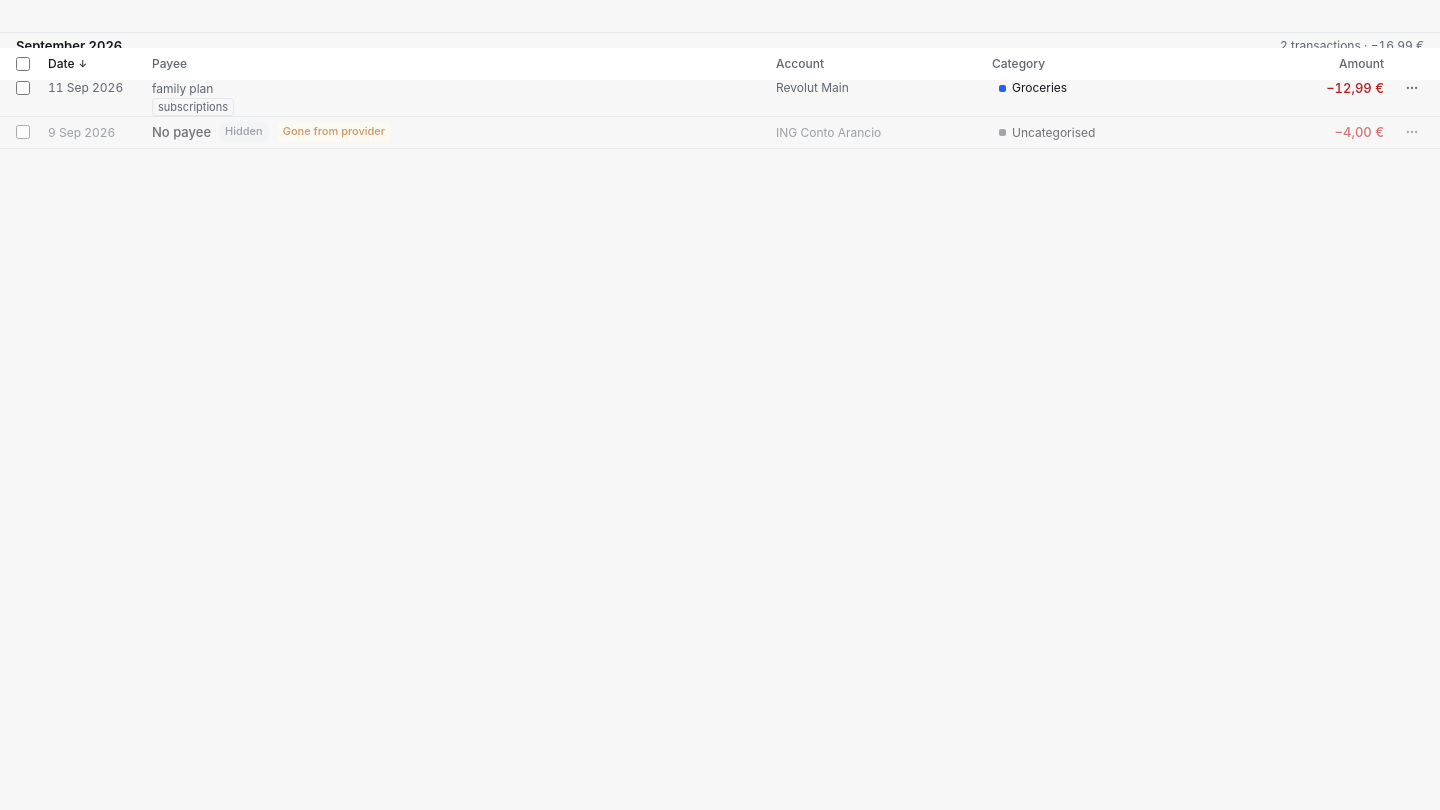
it: TransactionsTable › opens the details panel from the row menu, with the provider's fields as context
The image size is (1440, 810).
Click the button named "Row actions" in the row of "11 Sep 2026": point(1412, 88) [1400,76,1424,100]
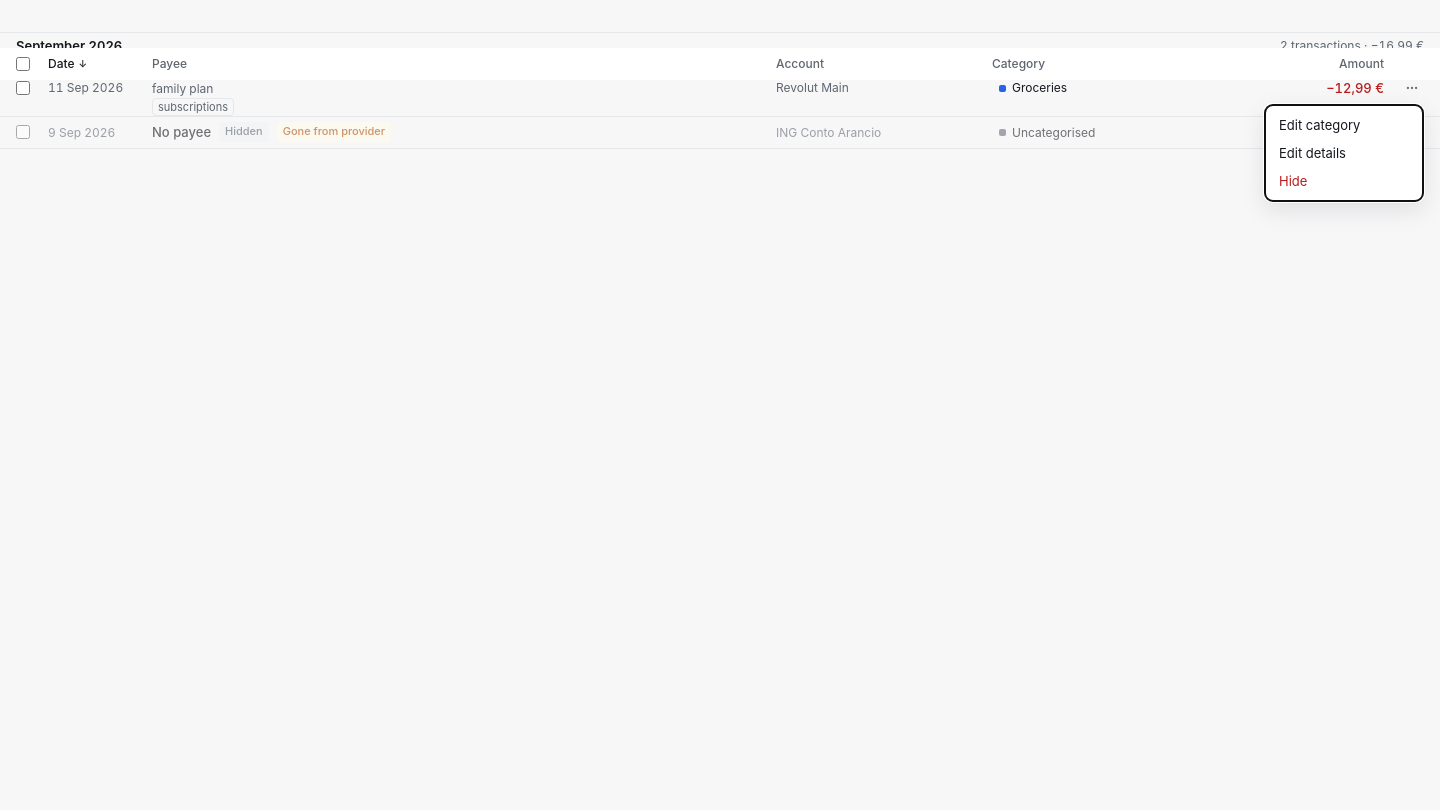
Click the menu item "Edit details": point(1312, 153) [1279,145,1346,161]
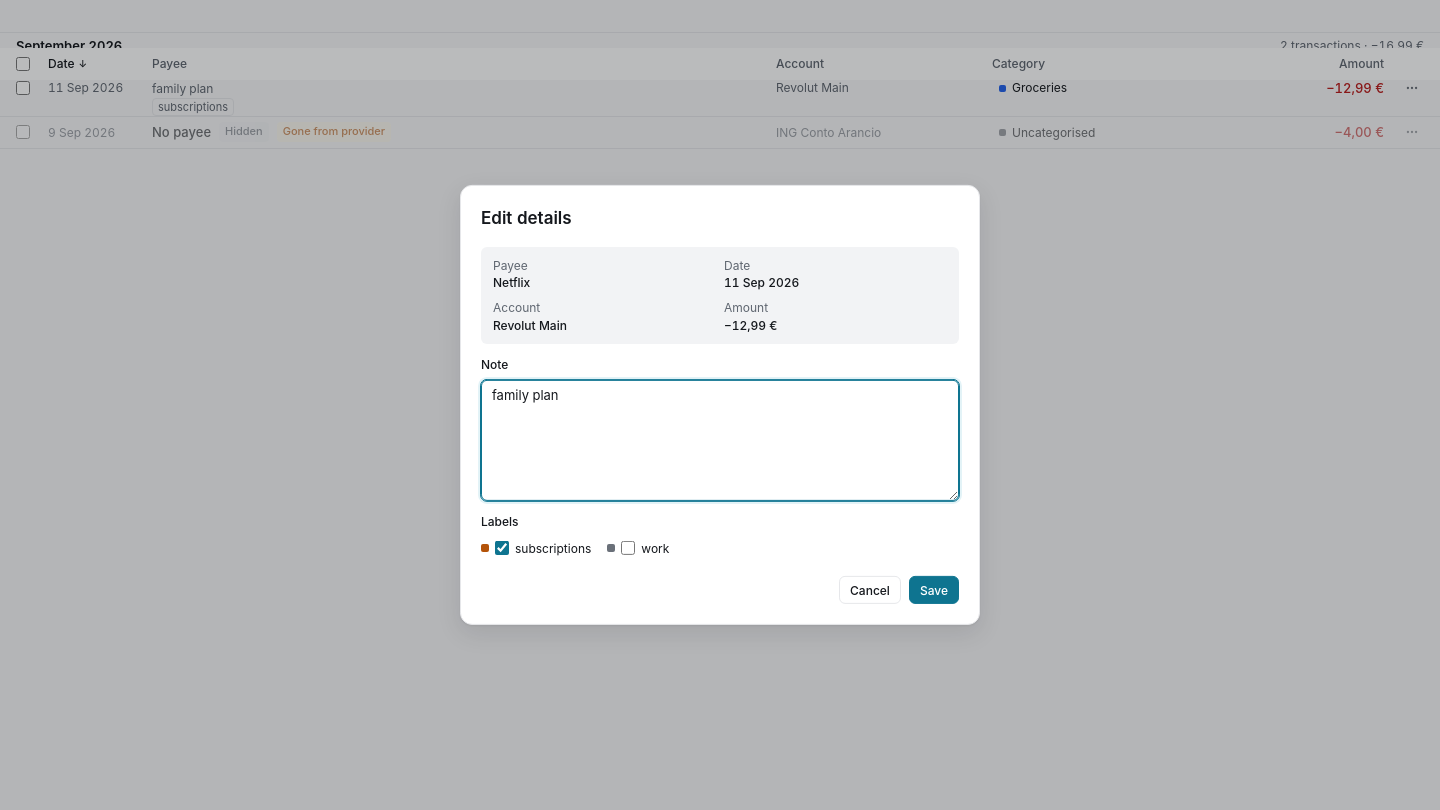
Expected: the text box labelled "Note" holds "family plan", [481,380,959,501]
Expected: the checkbox labelled "subscriptions" is checked, [495,541,509,555]
Expected: the checkbox labelled "work" is not checked, [621,541,635,555]
